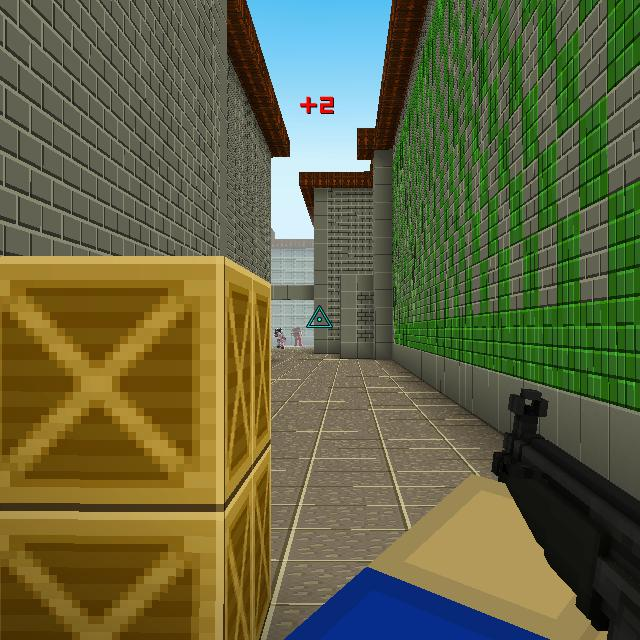enemy: (274, 328, 286, 350), (291, 326, 303, 346)
